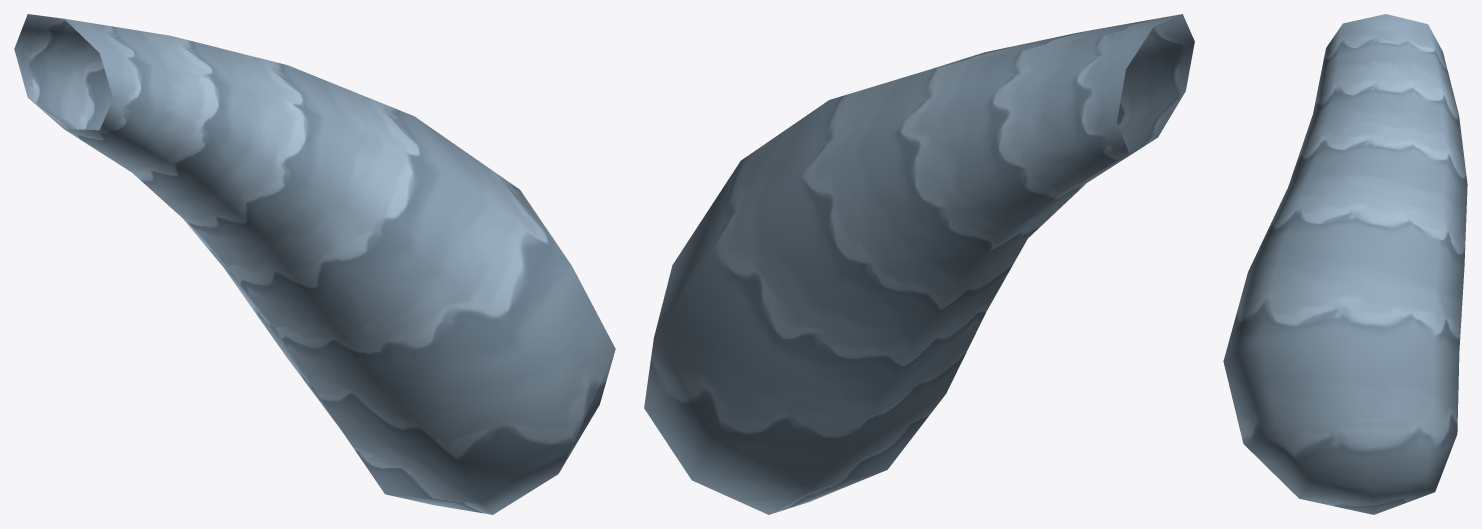
The model's file is ArmL.fbx.
The picture shows the model from 3 angles, left to right: view 1: azimuth 30°, elevation 25°; view 2: azimuth 150°, elevation 25°; view 3: azimuth 270°, elevation 25°; orthographic projection. The views are drawn at different scales.
Parts seen in each view (by area): view 1: ArmsL; view 2: ArmsL; view 3: ArmsL.
Part boxes in pixels (left/top/right/bottom): ArmsL: left=14, top=14, right=615, bottom=514; ArmsL: left=644, top=14, right=1194, bottom=514; ArmsL: left=1223, top=14, right=1467, bottom=514.
Bounding box in the file's own units: 88.88 × 95.61 × 56.45.
